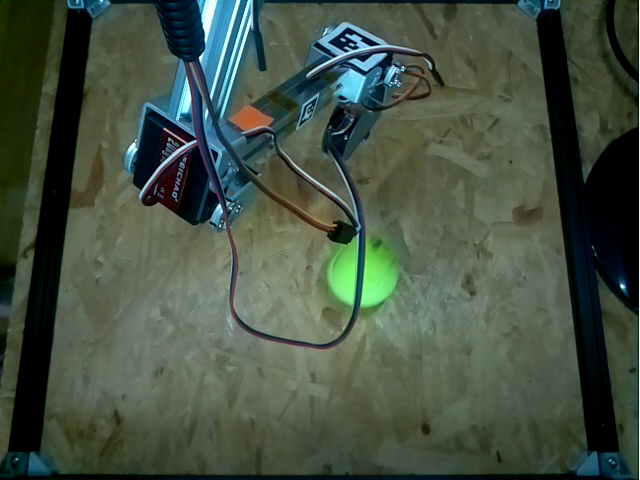tennis_ball: (328, 237, 401, 307)
